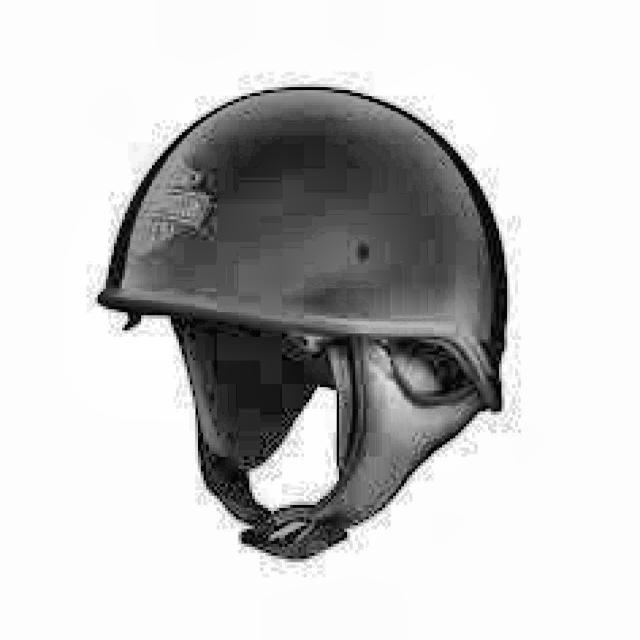Helmet: (87, 77, 524, 566)
